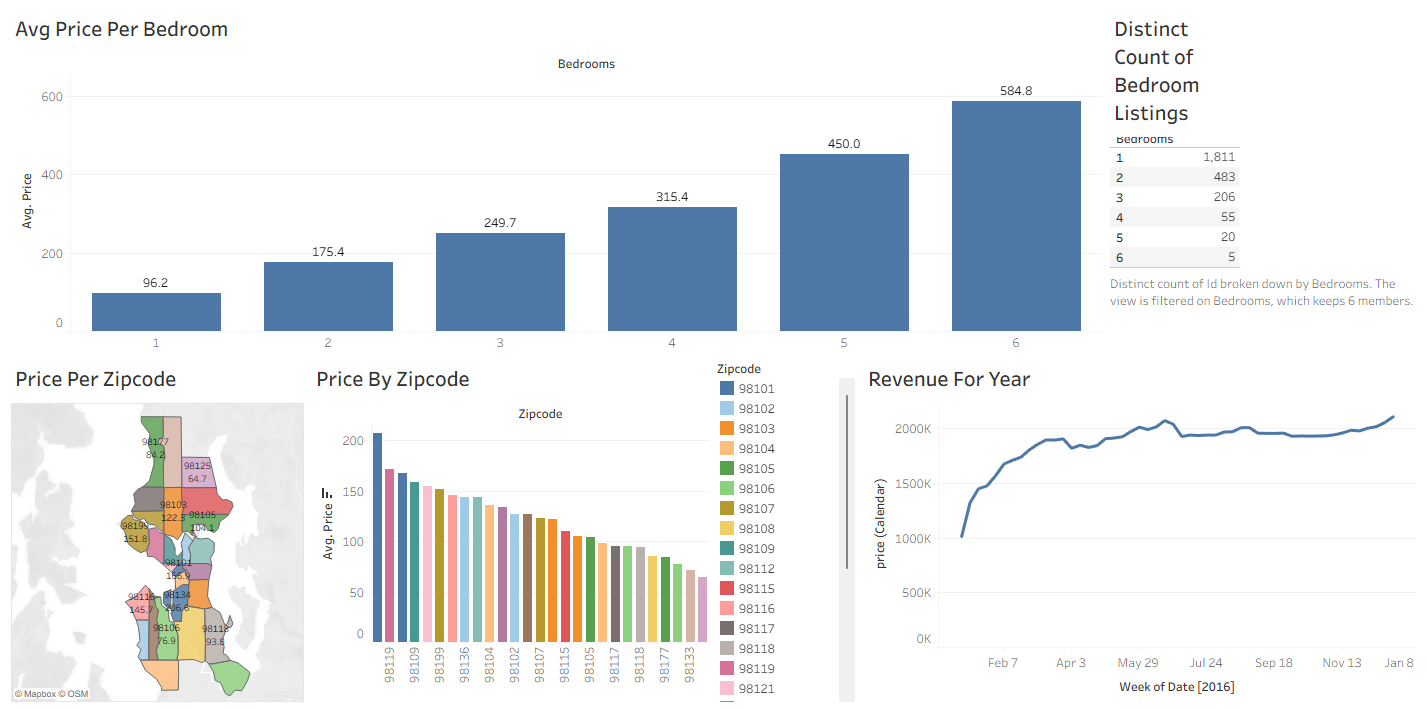

The page's visual inventory and layout, read from the dashboard file:
{"tool":"tableau","page":{"name":"Dashboard 1","canvas":[1000,1000],"units":"permille","ordinal":0},"visuals":[{"type":"worksheet","title":"Sheet 4","mark":"Automatic","rows":["price"],"cols":["bedrooms"],"box":[9.2,11.3,763.6,488.7]},{"type":"worksheet","title":"Sheet 5","mark":"Automatic","rows":["bedrooms"],"box":[772.8,11.3,218,488.7]},{"type":"worksheet","title":"Sheet 2","mark":"Multipolygon","box":[9.2,500,208.8,488.7]},{"type":"worksheet","title":"Sheet 1","mark":"Automatic","rows":["price"],"cols":["zipcode"],"box":[218,500,281.4,488.7]},{"type":"legend","title":"Sheet 1","param":"[federated.19gqmgt0qqbnsm14xr20c0kpzks4].[none:zipcode:ok]","box":[499.4,500,102.7,488.7]},{"type":"worksheet","title":"Sheet 3","mark":"Automatic","rows":["price (Calendar)"],"cols":["date"],"box":[602.1,500,388.7,488.7]}]}

Visuals, with their boxes on the dashboard's canvas, which has no fixed pixel size, in thousandths of its width and height (x1, y1, x2, y2). These are canvas units, not pixel positions in the 1427x709 screenshot, which may show the page scaled, cropped or inside an application window:
"Sheet 4" worksheet: x1=9, y1=11, x2=773, y2=500
"Sheet 5" worksheet: x1=773, y1=11, x2=991, y2=500
"Sheet 2" worksheet (Multipolygon marks): x1=9, y1=500, x2=218, y2=989
"Sheet 1" worksheet: x1=218, y1=500, x2=499, y2=989
"Sheet 1" legend: x1=499, y1=500, x2=602, y2=989
"Sheet 3" worksheet: x1=602, y1=500, x2=991, y2=989
